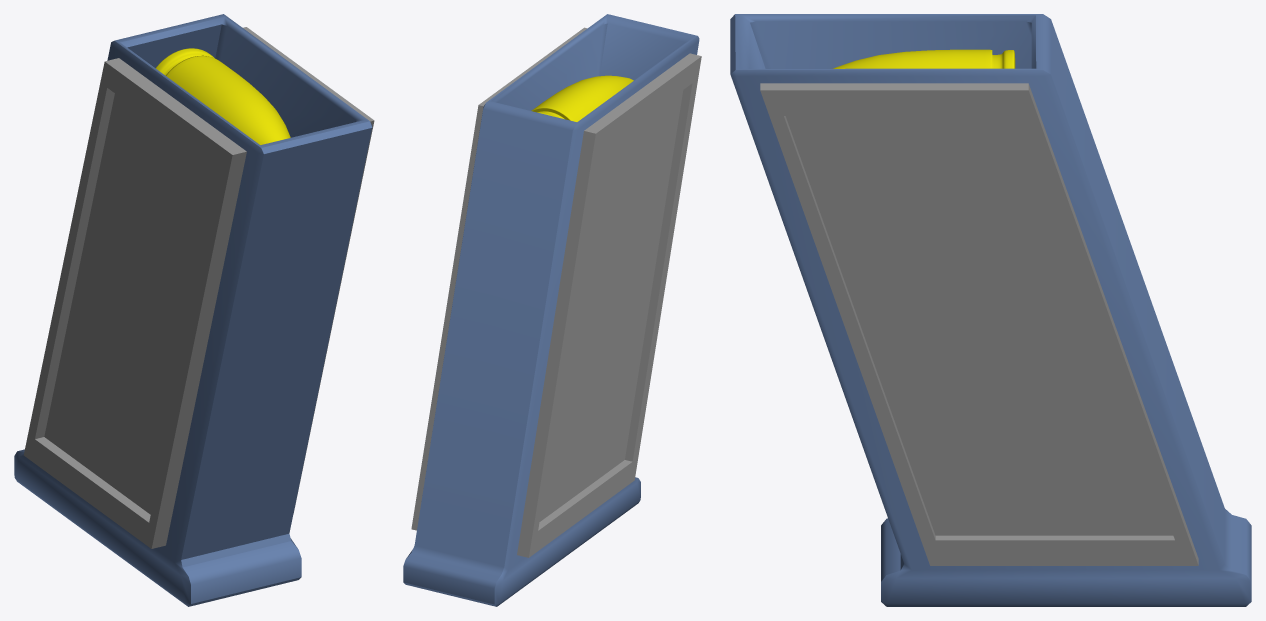
The model's file is Magazine for 121_03.fbx.
3 renders of one model, left to right at view 1: azimuth 30°, elevation 25°; view 2: azimuth 150°, elevation 25°; view 3: azimuth 270°, elevation 25°, orthographic. The views are drawn at different scales.
Parts seen in each view (by area): view 1: Cube, Plane.001, Cylinder, Plane; view 2: Cube, Plane.001, Plane, Cylinder; view 3: Plane, Cube, Cylinder.
Boxes of the visible parts, x1=… form: Cube: x1=14, y1=14, x2=372, y2=606; Plane.001: x1=23, y1=58, x2=246, y2=548; Cylinder: x1=155, y1=48, x2=290, y2=144; Plane: x1=243, y1=27, x2=374, y2=512; Cube: x1=403, y1=14, x2=699, y2=606; Plane.001: x1=517, y1=53, x2=701, y2=557; Plane: x1=411, y1=27, x2=587, y2=530; Cylinder: x1=531, y1=75, x2=633, y2=121; Plane: x1=760, y1=83, x2=1198, y2=565; Cube: x1=730, y1=14, x2=1251, y2=606; Cylinder: x1=833, y1=49, x2=1015, y2=68.
Size of the model in its own units: 107 by 369 by 325.
